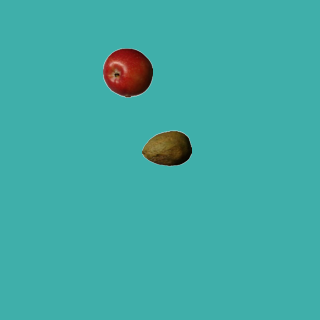Apple Braeburn: (102, 47, 152, 97)
Papaya: (141, 123, 191, 173)
